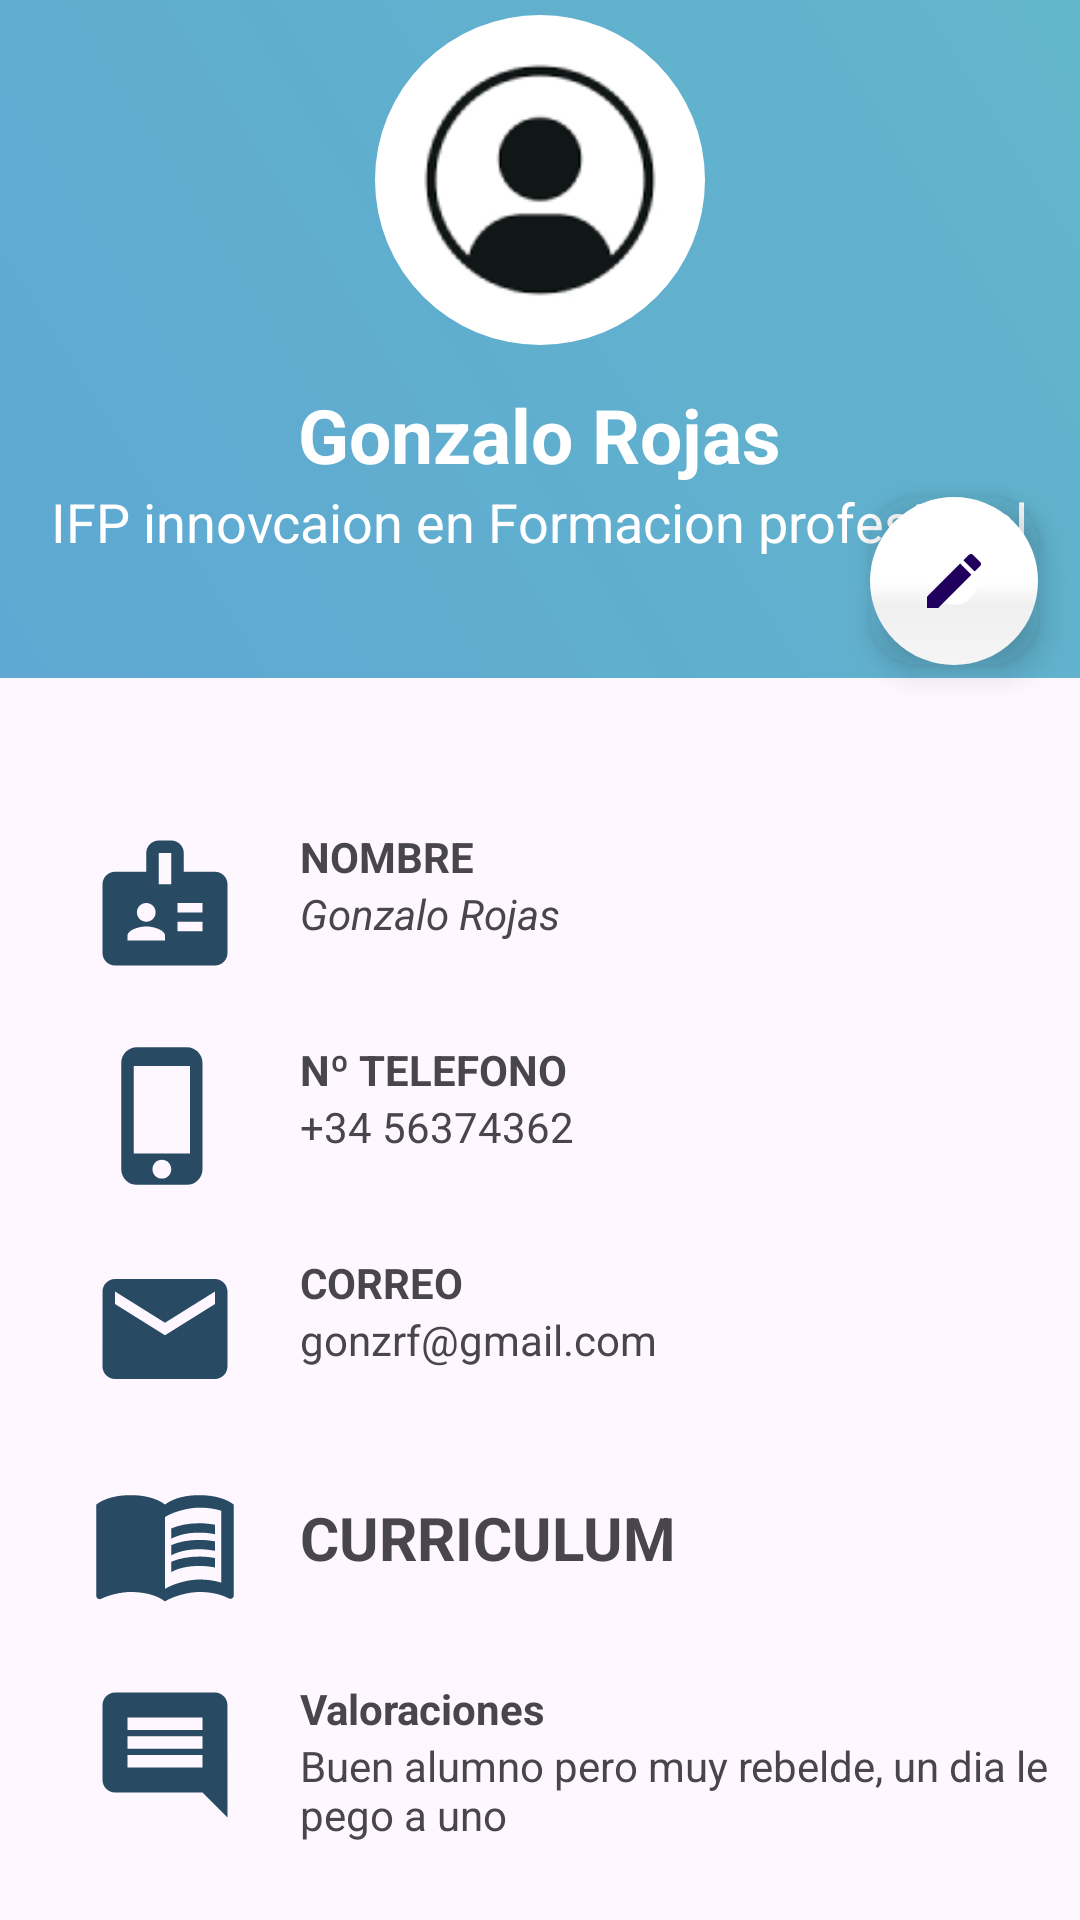

Screen size 1080px×1920px. Icon name, then its box in pixels as (x1, y1, x2, y2):
badget: (102, 840, 228, 966)
dialog: (102, 1692, 228, 1818)
edit: (870, 497, 1038, 665)
email: (102, 1279, 228, 1379)
phone: (121, 1047, 203, 1185)
profile pic user: (375, 15, 705, 345)
